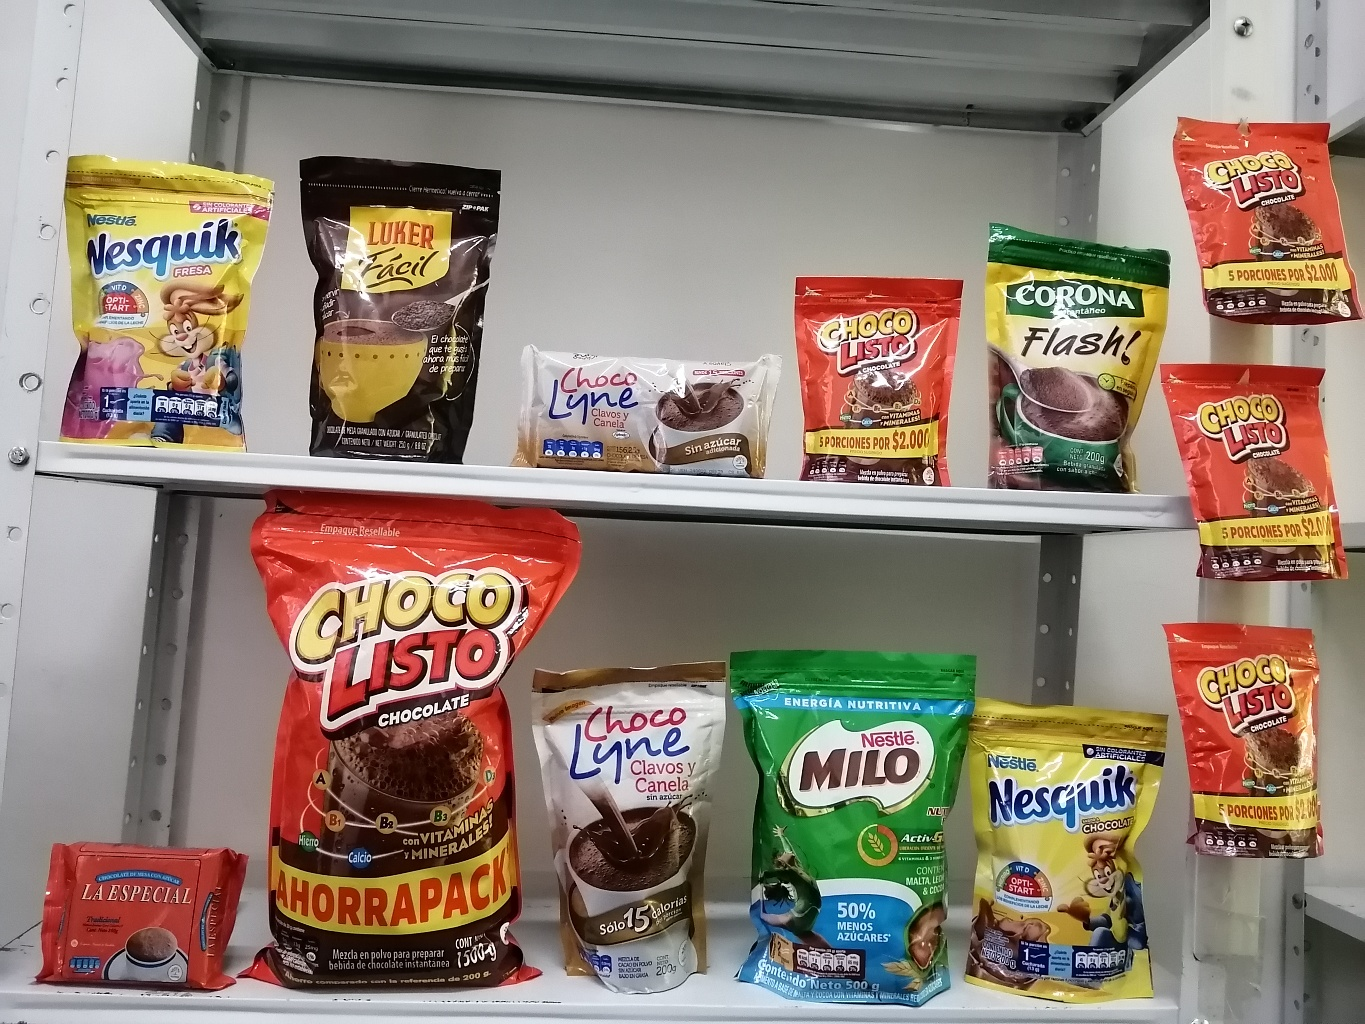COL0170103DYP1,500: (239, 490, 553, 1001)
COL0170205DYP50000: (729, 635, 991, 1007)
COL0170303DYP20000: (968, 684, 1189, 1011)
COL0170305DYP20000: (57, 151, 286, 457)
